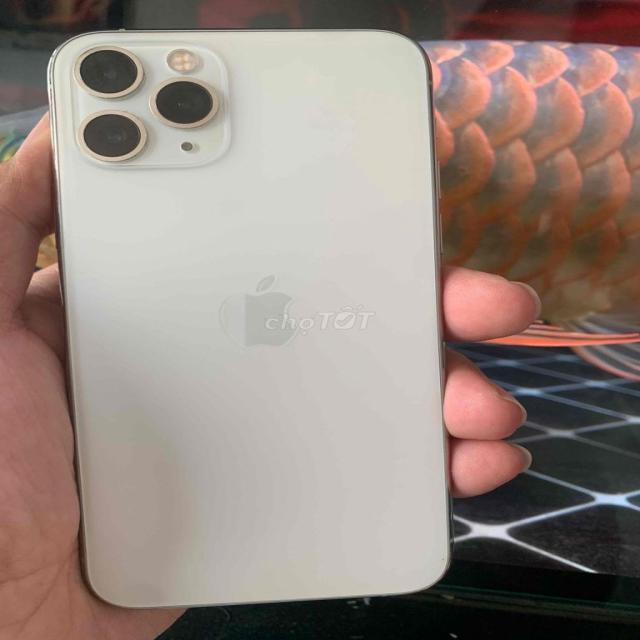gen_11: (45, 21, 463, 622)
